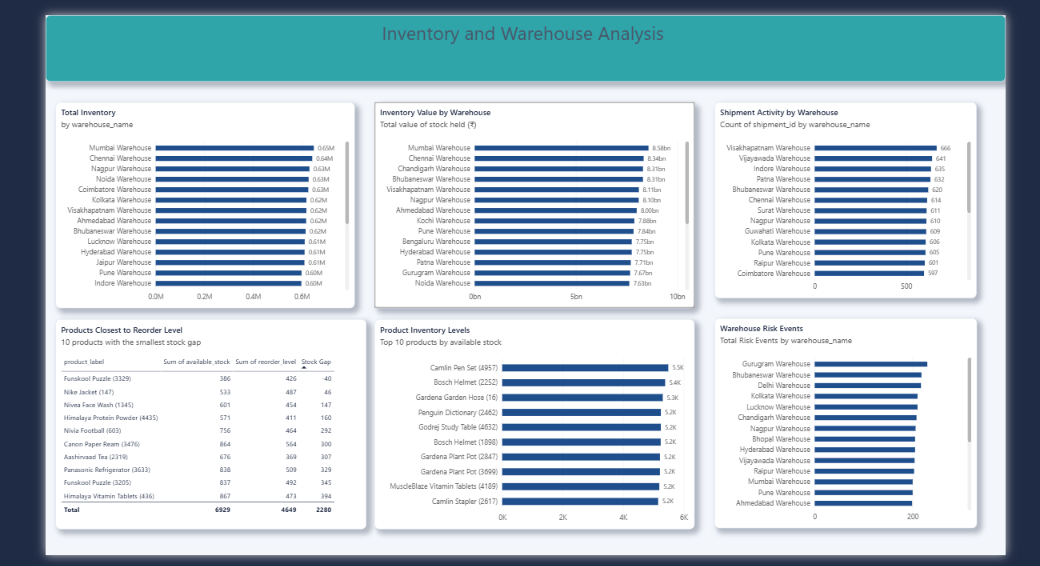

This screenshot's page, from the dashboard's own definition file:
{"tool":"powerbi","page":{"name":"Inventory and Warehouse Analysis ","canvas":[1920,1080],"ordinal":4},"visuals":[{"type":"textbox","box":[0,0,1920,132.5],"z":0},{"type":"clusteredBarChart","fields":{"Category":["DimWarehouse.warehouse_name"],"Y":["DimDate.Total Inventory"]},"box":[20,174,598,412],"z":1000},{"type":"clusteredBarChart","title":"Inventory Value by Warehouse","fields":{"Category":["DimWarehouse.warehouse_name"],"Y":["DimDate.Inventory Value"]},"box":[658,174,640,412],"z":2000},{"type":"tableEx","title":"Products Closest to Reorder Level","fields":{"Values":["DimProduct.product_label","Sum(FactInventory.available_stock)","Sum(FactInventory.reorder_level)","FactInventory.Stock Gap"]},"box":[20,608.3,621.7,420],"z":3000},{"type":"clusteredBarChart","title":"Product Inventory Levels","fields":{"Category":["DimProduct.product_label"],"Y":["DimDate.Total Inventory"]},"box":[658,608,640,420],"z":4000},{"type":"clusteredBarChart","title":"Shipment Activity by Warehouse","fields":{"Category":["DimWarehouse.warehouse_name"],"Y":["CountNonNull(FactShipments.shipment_id)"]},"box":[1338,174,524,392],"z":5000},{"type":"clusteredBarChart","title":"Warehouse Risk Events","fields":{"Category":["DimWarehouse.warehouse_name"],"Y":["DimDate.Total Risk Events"]},"box":[1337.6,605.9,524.8,420.3],"z":6000}]}

Visuals, with their boxes on the page's 1920x1080 design canvas (x1, y1, x2, y2). These are canvas units, not pixel positions in the 1040x566 screenshot, which may show the page scaled, cropped or inside an application window:
textbox: l=0, t=0, r=1920, b=132
clusteredBarChart - DimWarehouse.warehouse_name x DimDate.Total Inventory: l=20, t=174, r=618, b=586
"Inventory Value by Warehouse" clusteredBarChart: l=658, t=174, r=1298, b=586
"Products Closest to Reorder Level" tableEx: l=20, t=608, r=642, b=1028
"Product Inventory Levels" clusteredBarChart: l=658, t=608, r=1298, b=1028
"Shipment Activity by Warehouse" clusteredBarChart: l=1338, t=174, r=1862, b=566
"Warehouse Risk Events" clusteredBarChart: l=1338, t=606, r=1862, b=1026
